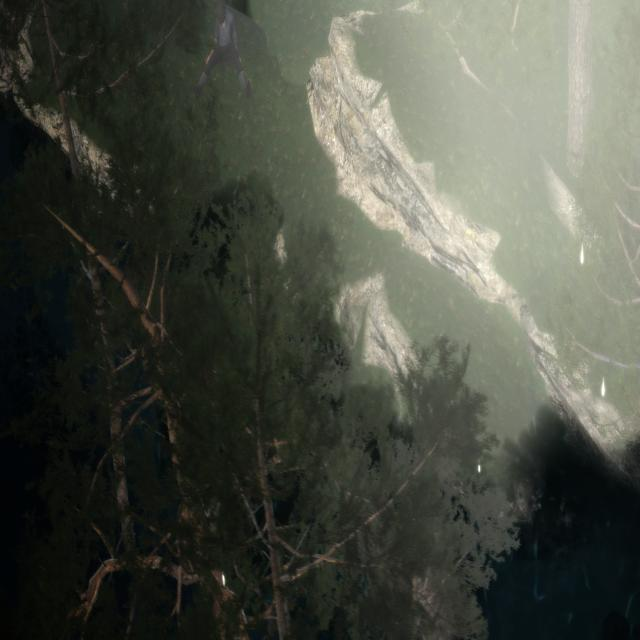Human: (190, 0, 253, 106)
